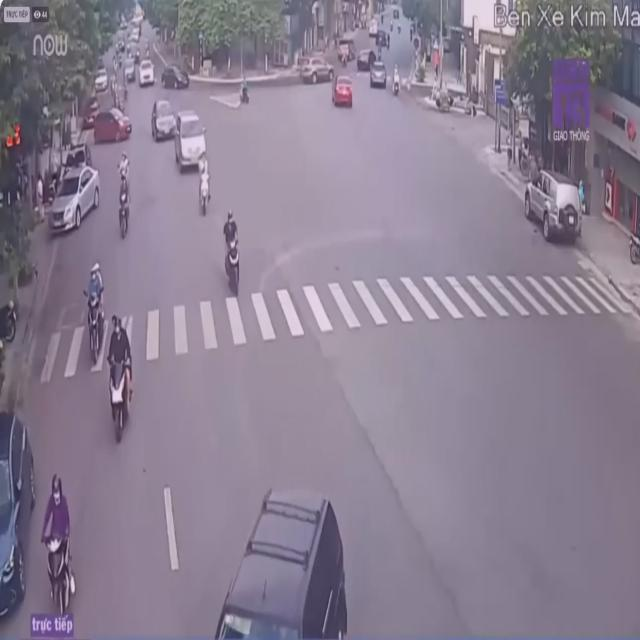car: (207, 491, 350, 639), (0, 413, 37, 640), (523, 165, 583, 248), (47, 168, 99, 230), (176, 110, 212, 175), (152, 98, 176, 142), (330, 72, 356, 112)
motorbike: (40, 478, 78, 637), (106, 313, 139, 449), (80, 265, 108, 371), (221, 210, 243, 296), (198, 170, 215, 220), (120, 185, 130, 241), (116, 150, 129, 192)
